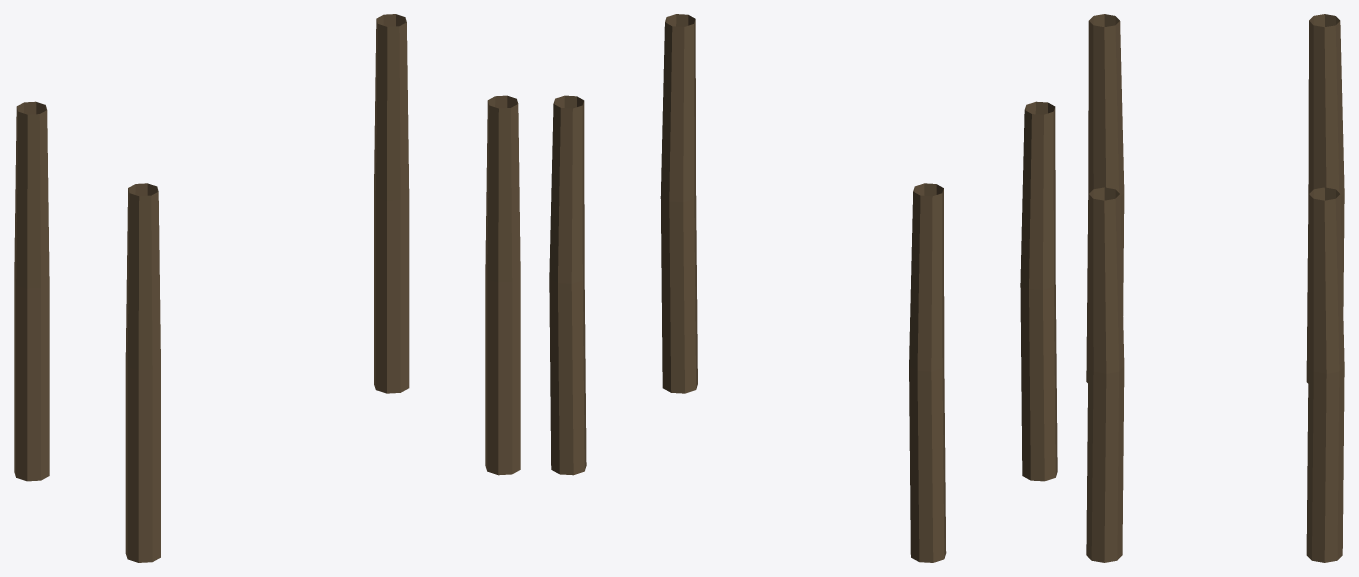
The model's file is rpgpp_ag_gate_balcony_support_01.fbx.
3 views of the same model, side by side, from view 1: azimuth 30°, elevation 25°; view 2: azimuth 150°, elevation 25°; view 3: azimuth 270°, elevation 25° (orthographic).
Visible parts, largest first — view 1: rpgpp_ag_gate_balcony_support_01; view 2: rpgpp_ag_gate_balcony_support_01; view 3: rpgpp_ag_gate_balcony_support_01.
Part boxes in pixels (left/top/right/bottom): rpgpp_ag_gate_balcony_support_01: left=14, top=14, right=520, bottom=562; rpgpp_ag_gate_balcony_support_01: left=549, top=14, right=1057, bottom=562; rpgpp_ag_gate_balcony_support_01: left=1086, top=14, right=1344, bottom=562.
Size of the model in its own units: 4.36 by 3.89 by 2.52.
